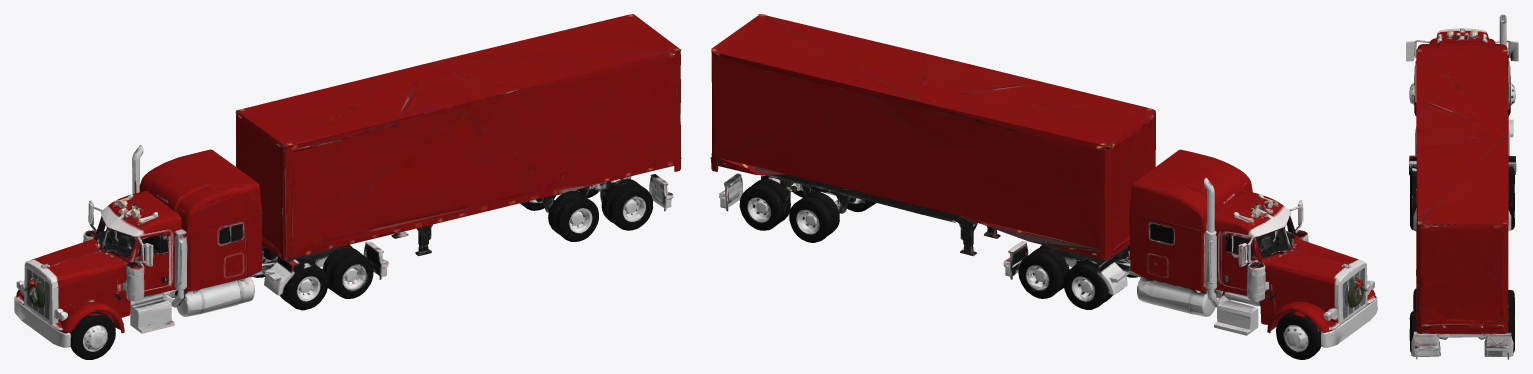
File: truck.glb
3 renders of one model, left to right at view 1: azimuth 30°, elevation 25°; view 2: azimuth 150°, elevation 25°; view 3: azimuth 270°, elevation 25°, orthographic. The views are drawn at different scales.
Parts seen in each view (by area): view 1: Mesh_0; view 2: Mesh_0; view 3: Mesh_0.
Part boxes in pixels (x1,y1,x2,y2): Mesh_0: (14,14,681,359); Mesh_0: (710,14,1377,359); Mesh_0: (1406,14,1518,359).
Bounding box in the file's own units: 1.92 × 0.4819 × 0.3244.
Materials: 1 (1 with a texture image).
